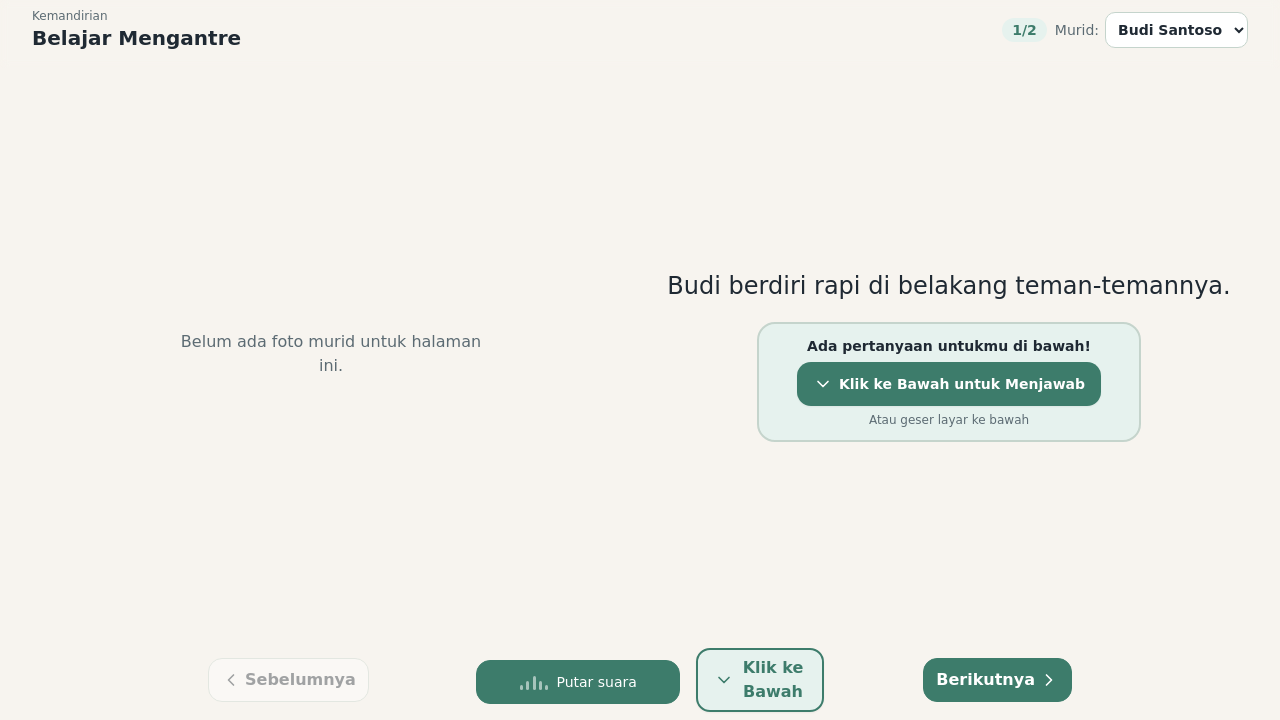
Test: Belajar Landscape & Full-Screen Snap Viewport Layout › navigates between pages, resets scroll to top, and hides Screen 2 when page has no MCQ
The width and height of the screenshot is (1280, 720).
Step 1. Click the button "Berikutnya" → click(998, 680), box [923,658,1072,702]
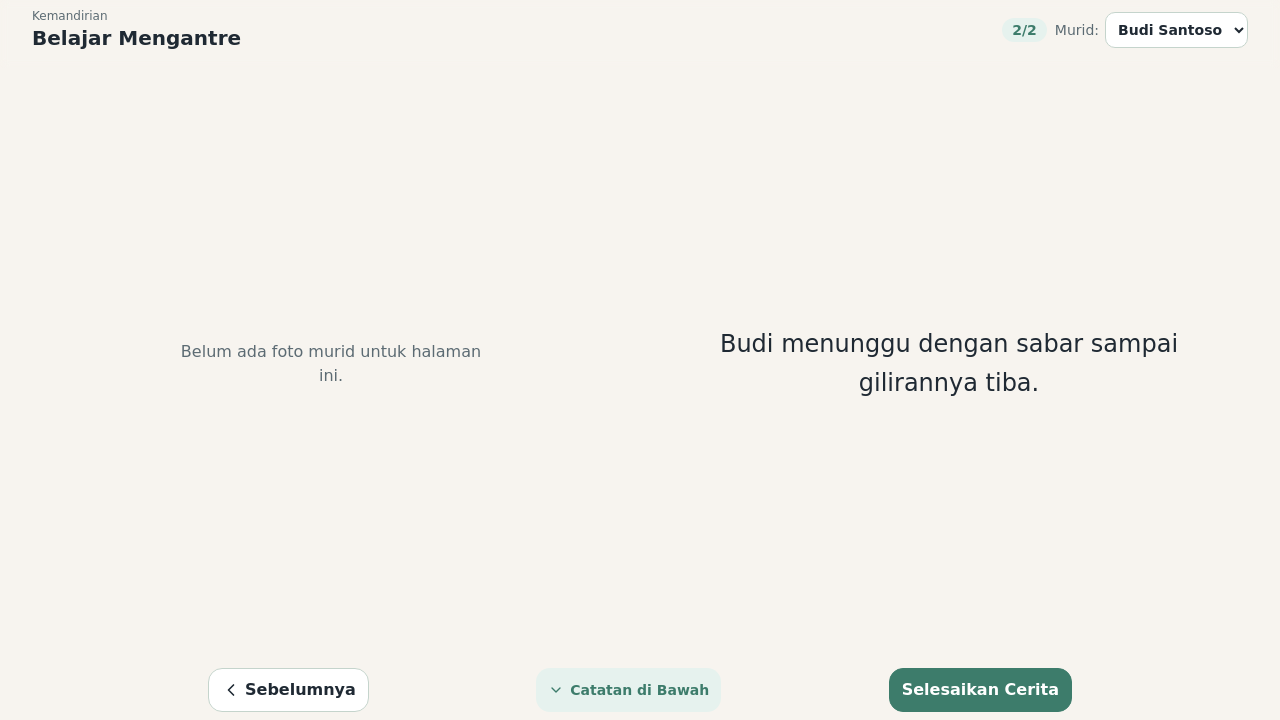
Expected: the text "Budi menunggu dengan sabar sampai gilirannya tiba." is shown, [720,330,1186,397]
Expected: the text "2/2" is shown, [1012,22,1037,38]
Expected: the button "Selesaikan Cerita" is shown
// Clicking finish story displays completion message and scrolls into adult section
Step 2. Click the button "Selesaikan Cerita" → click(980, 690), box [889,668,1072,712]
(page scrolled)
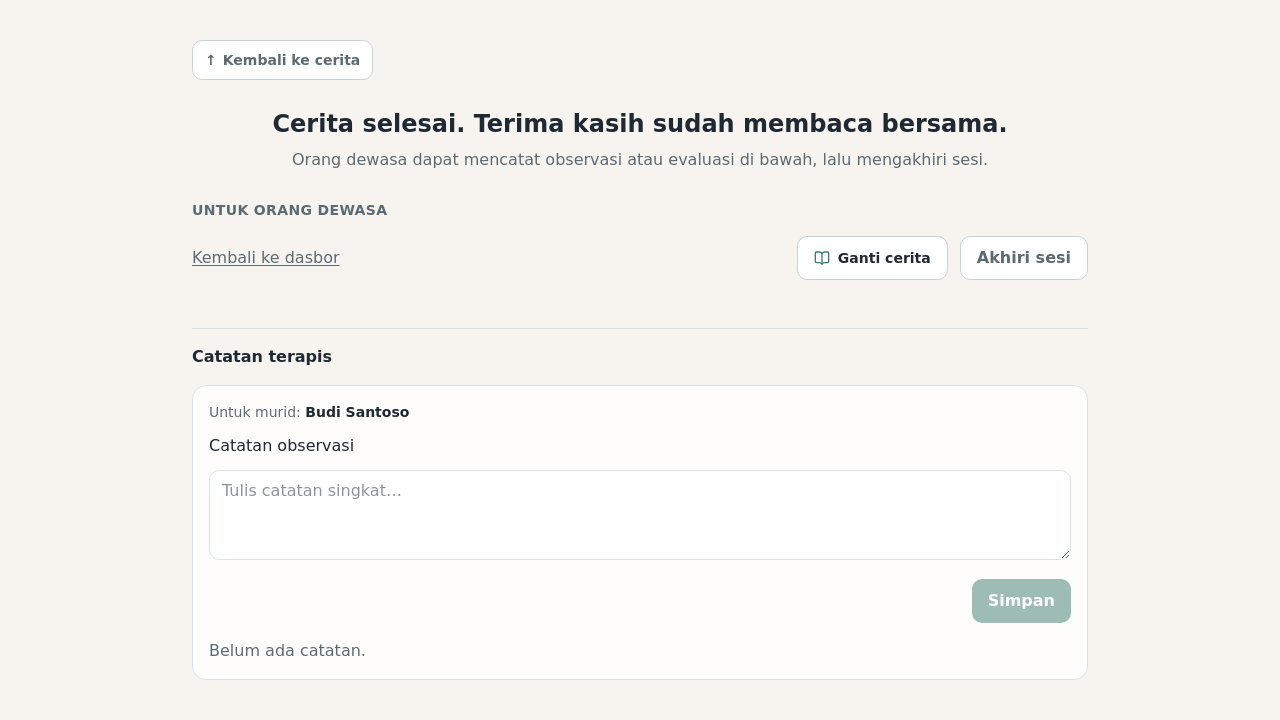
Expected: the text "Cerita selesai. Terima kasih sudah membaca bersama." is shown, [272,108,1008,140]
